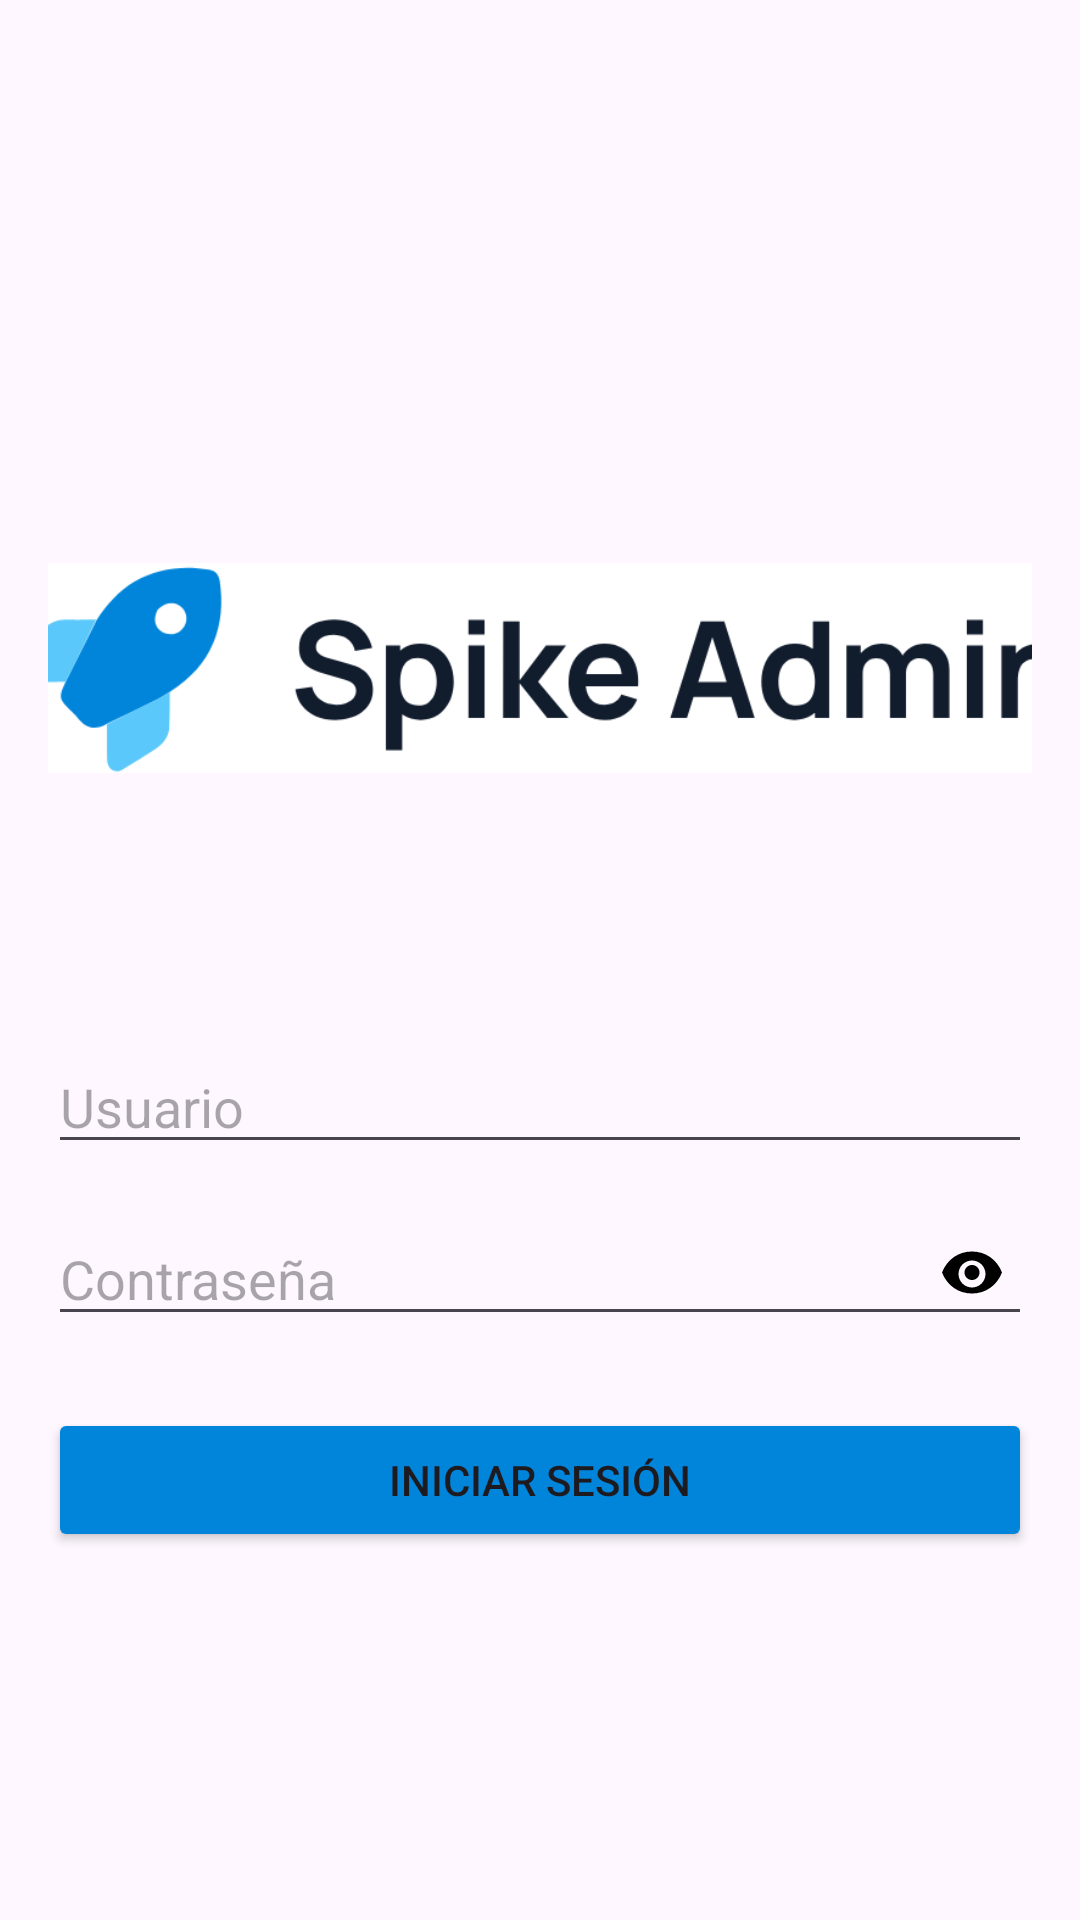

Icons on this 1080px×1920px Android screen, each with its box as (x1, y1, x2, y2):
Toggle password visibility: (942, 1251, 1002, 1294)
